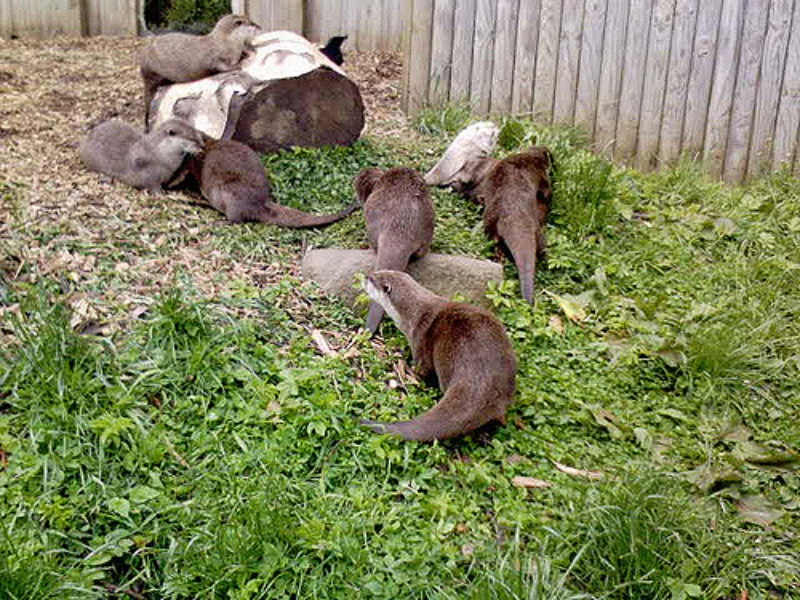minkish: (357, 267, 522, 451), (163, 117, 357, 226), (454, 143, 571, 316), (337, 155, 436, 340), (68, 113, 210, 198), (133, 13, 263, 103)
